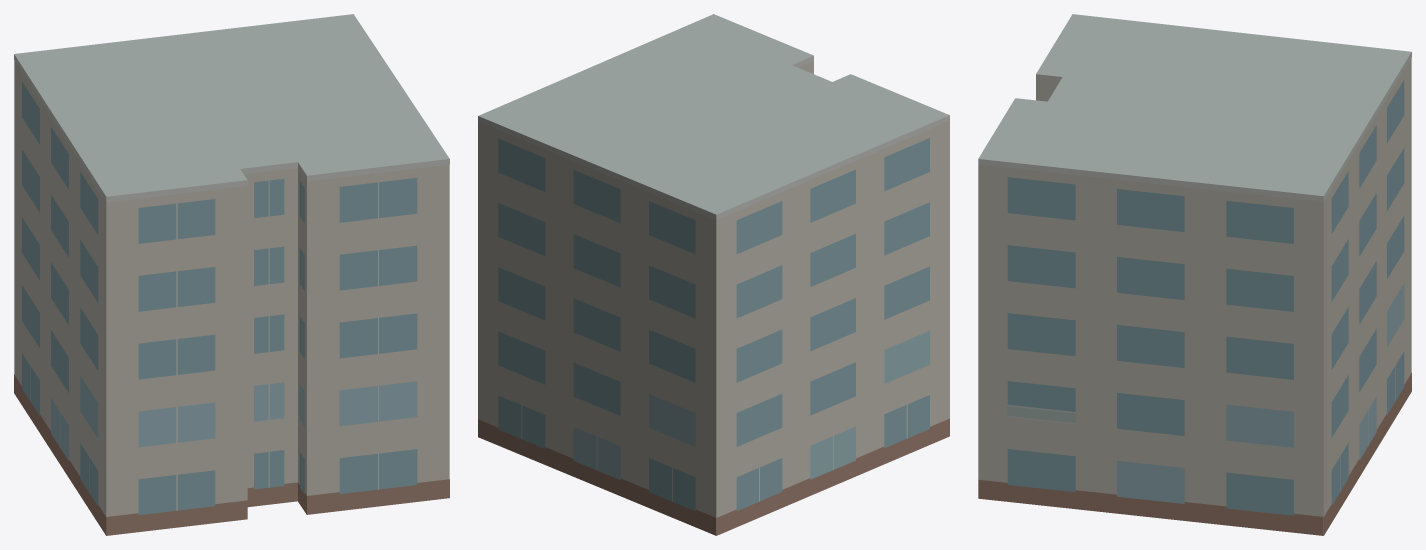
Rendered from survey-upis-32742233.glb.
3 views of the same model, side by side, from view 1: azimuth 30°, elevation 25°; view 2: azimuth 150°, elevation 25°; view 3: azimuth 270°, elevation 25° (orthographic). The views are drawn at different scales.
Visible parts, largest first — view 1: survey-upis-32742233.tmp; view 2: survey-upis-32742233.tmp; view 3: survey-upis-32742233.tmp.
Part boxes in pixels (<box>): survey-upis-32742233.tmp: <box>14,14,449,535</box>; survey-upis-32742233.tmp: <box>478,14,949,535</box>; survey-upis-32742233.tmp: <box>978,14,1411,535</box>.
Bounding box in the file's own units: 16.57 × 14.4 × 16.67.
